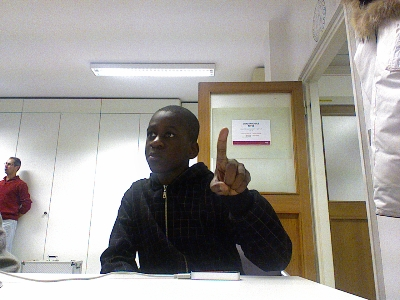食指: (207, 124, 251, 196)
